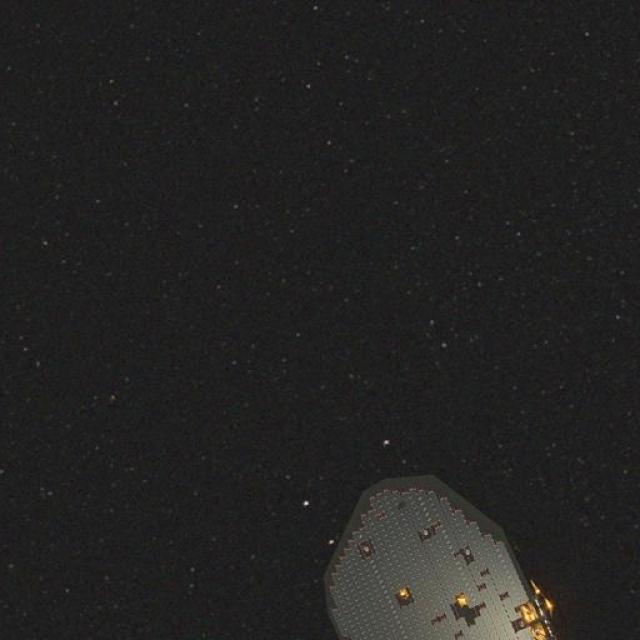lisa_pathfinder: (302, 441, 572, 640)
